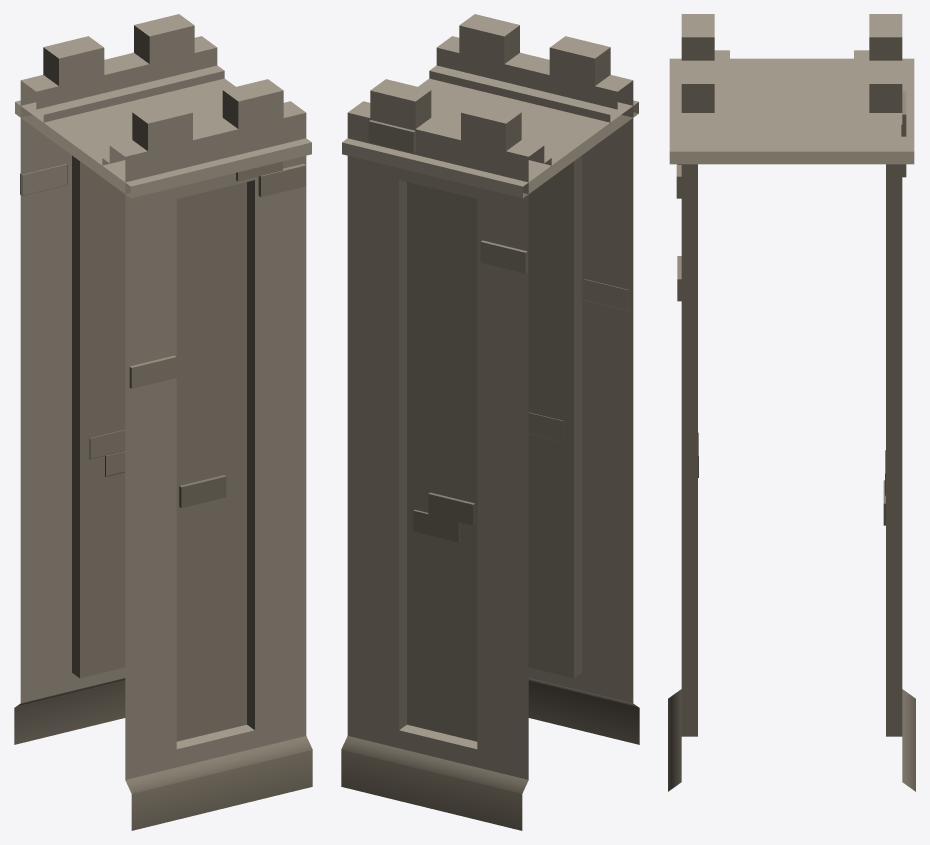
Rendered from SF_Bld_Castle_Wall_05.fbx.
3 views of the same model, side by side, from view 1: azimuth 30°, elevation 25°; view 2: azimuth 150°, elevation 25°; view 3: azimuth 270°, elevation 25° (orthographic). The views are drawn at different scales.
Parts seen in each view (by area): view 1: SF_Bld_Castle_Wall_05; view 2: SF_Bld_Castle_Wall_05; view 3: SF_Bld_Castle_Wall_05.
Boxes of the visible parts, <box> form: SF_Bld_Castle_Wall_05: <box>14,14,312,830</box>; SF_Bld_Castle_Wall_05: <box>341,14,639,830</box>; SF_Bld_Castle_Wall_05: <box>668,14,915,791</box>.
Bounding box in the file's own units: 5 × 18.38 × 5.62.
